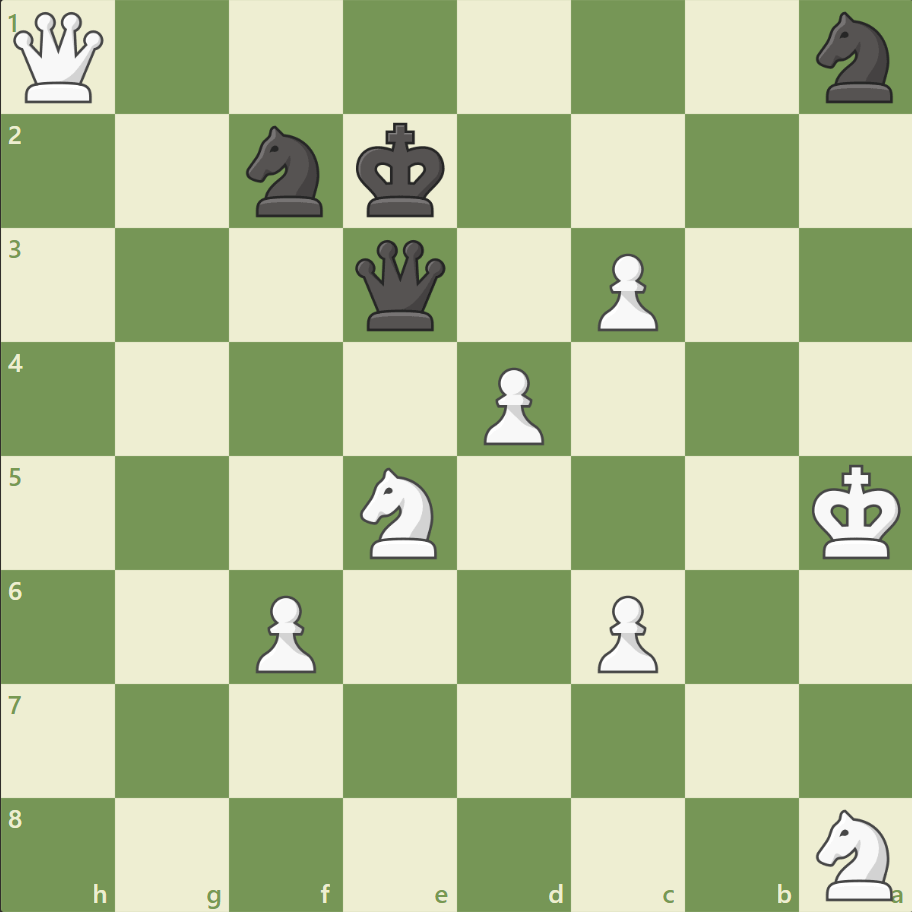K: (806, 458, 906, 566)
N: (351, 461, 449, 564), (806, 802, 903, 904)
P: (247, 586, 322, 677), (474, 359, 549, 450), (588, 586, 662, 677), (588, 246, 662, 337)
Q: (10, 9, 109, 108)
k: (351, 117, 451, 225)
n: (806, 7, 903, 110), (238, 121, 335, 223)
q: (351, 236, 450, 335)
